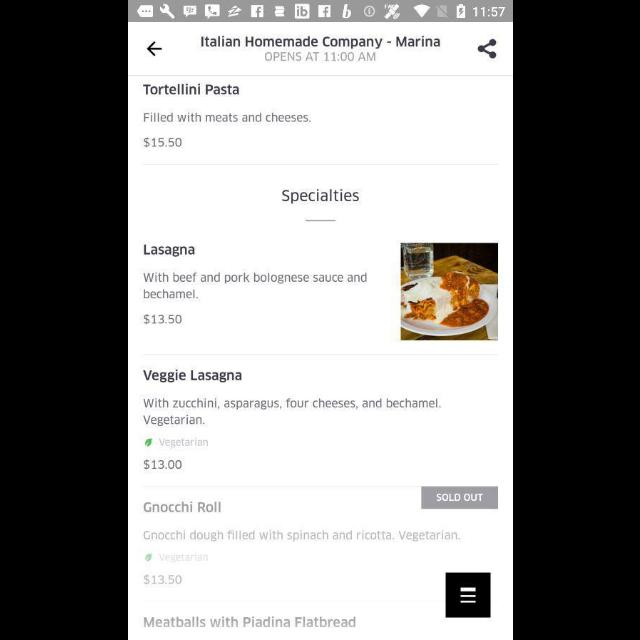icon: (444, 572, 491, 618), (476, 40, 496, 60), (146, 42, 162, 58)
image: (399, 242, 496, 340)
text: (143, 398, 441, 426), (143, 272, 367, 302), (143, 530, 459, 542), (200, 36, 440, 50), (143, 616, 355, 628), (144, 113, 310, 123), (143, 369, 241, 383), (282, 189, 358, 205), (143, 84, 240, 96), (265, 52, 375, 62), (143, 501, 221, 513), (142, 243, 194, 257), (144, 554, 192, 564), (144, 438, 192, 448), (143, 314, 181, 326), (142, 458, 182, 469), (142, 138, 182, 148), (143, 574, 181, 584)
textbutton: (420, 486, 498, 509)
toolbar: (128, 24, 512, 76)
uppertaskbar: (128, 1, 512, 23)
